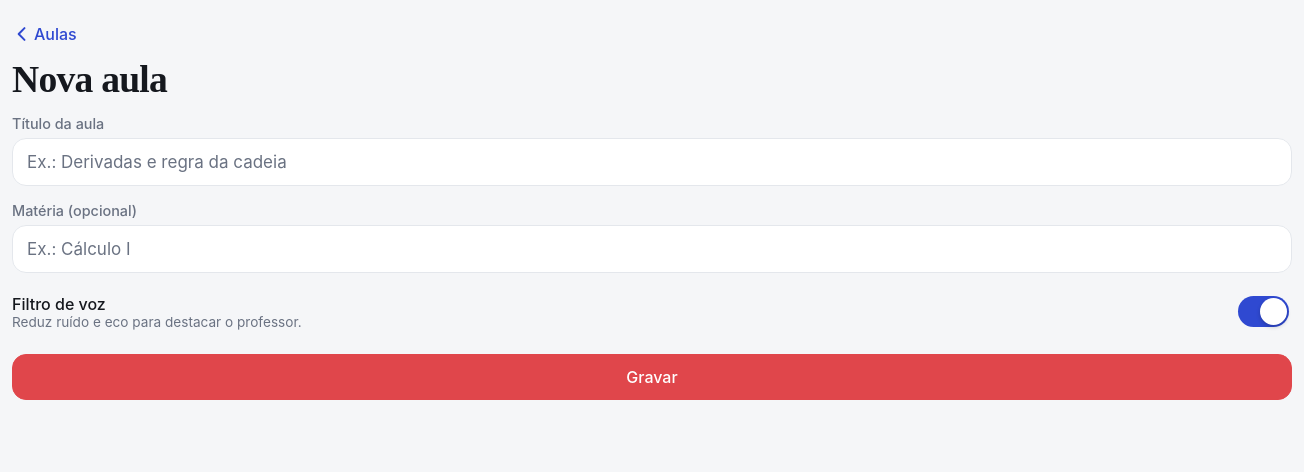
Test: RecordScreen › microfone negado não cria aula
Step 1. Type "Cálculo" into the field labelled "Título da aula" → [652, 162], box [12,138,1292,186]
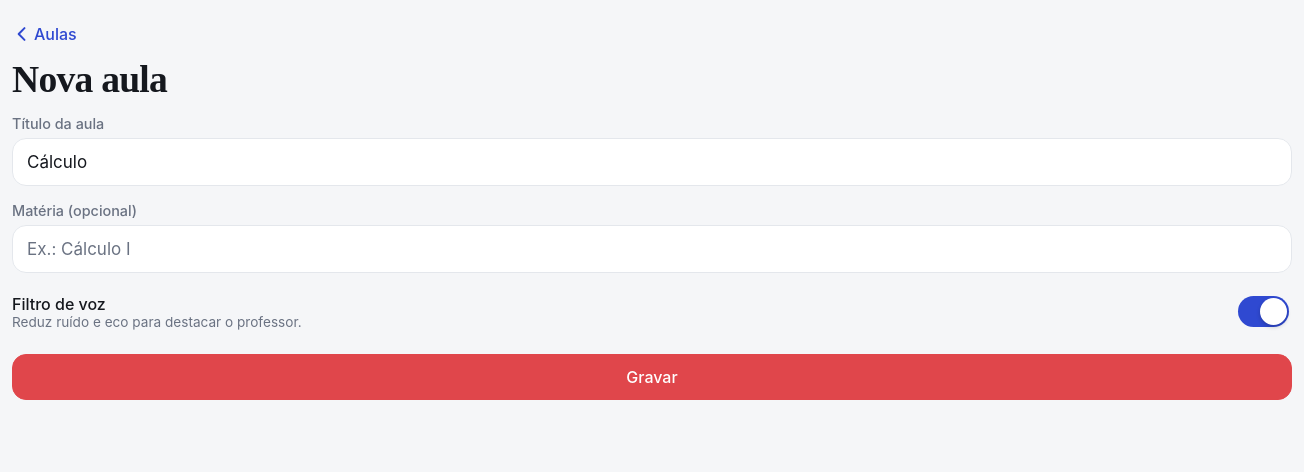
Step 2. Click the button "Gravar" → [652, 378], box [12,354,1292,400]
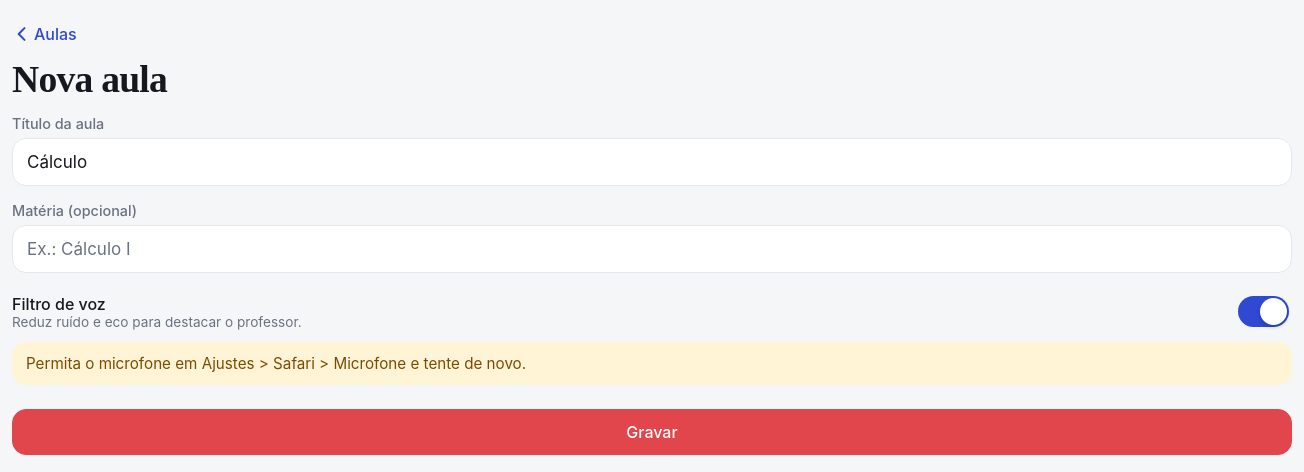
Check: the text "Ajustes > Safari > Microfone" is shown, box [26,354,526,374]
